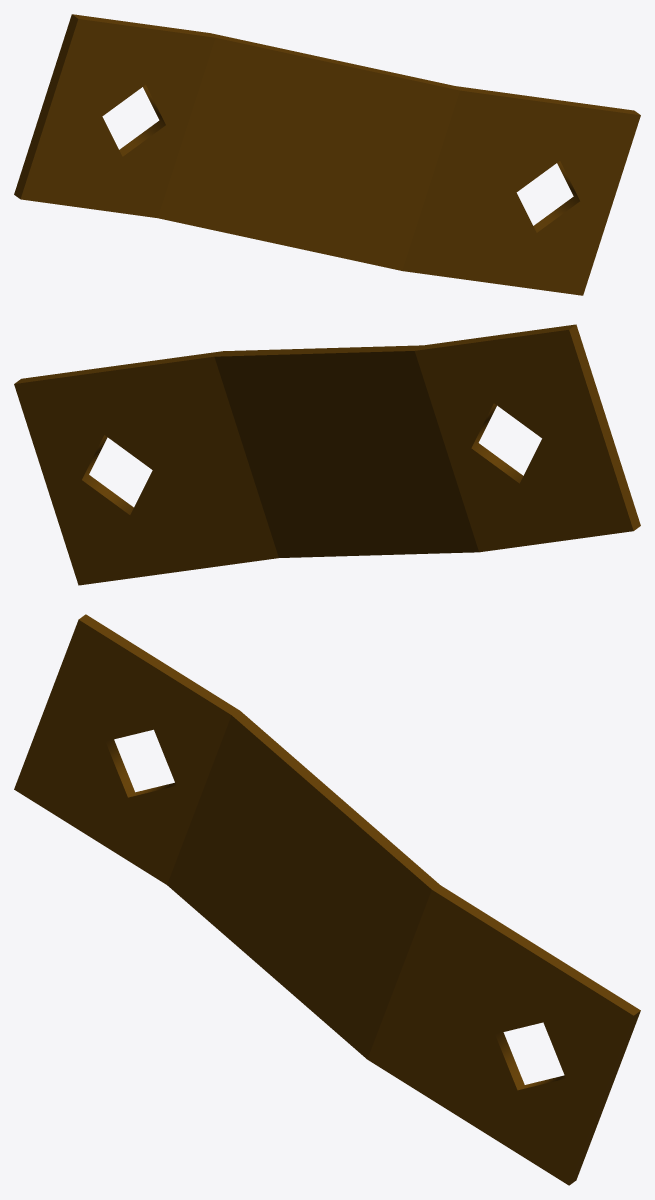
The model's file is Clinquant.obj.
3 renders of one model, top to bottom at view 1: azimuth 30°, elevation 25°; view 2: azimuth 150°, elevation 25°; view 3: azimuth 330°, elevation 25°, orthographic. The views are drawn at different scales.
Visible parts, largest first — view 1: Face_8, Face_1, Face_7, Face_9, Face_6, Face_11, Face_12; view 2: Face_4, Face_3, Face_5, Face_9, Face_6, Face_11, Face_12; view 3: Face_8, Face_1, Face_7, Face_9, Face_2.
Part boxes in pixels (bbox=[...]): Face_8: bbox=[158, 38, 459, 270]; Face_1: bbox=[402, 90, 640, 295]; Face_7: bbox=[20, 19, 215, 217]; Face_9: bbox=[72, 14, 640, 115]; Face_6: bbox=[14, 14, 78, 199]; Face_11: bbox=[119, 85, 165, 156]; Face_12: bbox=[533, 161, 579, 232]; Face_4: bbox=[214, 351, 478, 557]; Face_3: bbox=[14, 356, 278, 585]; Face_5: bbox=[414, 330, 633, 552]; Face_9: bbox=[14, 324, 575, 383]; Face_6: bbox=[569, 324, 640, 530]; Face_11: bbox=[471, 403, 523, 483]; Face_12: bbox=[82, 435, 133, 514]; Face_8: bbox=[167, 715, 431, 1058]; Face_1: bbox=[367, 890, 633, 1185]; Face_7: bbox=[14, 619, 231, 884]; Face_9: bbox=[79, 614, 640, 1015]; Face_2: bbox=[569, 1011, 640, 1185].
Bounding box in the file's own units: 0.0261 × 0.0156 × 0.003.
